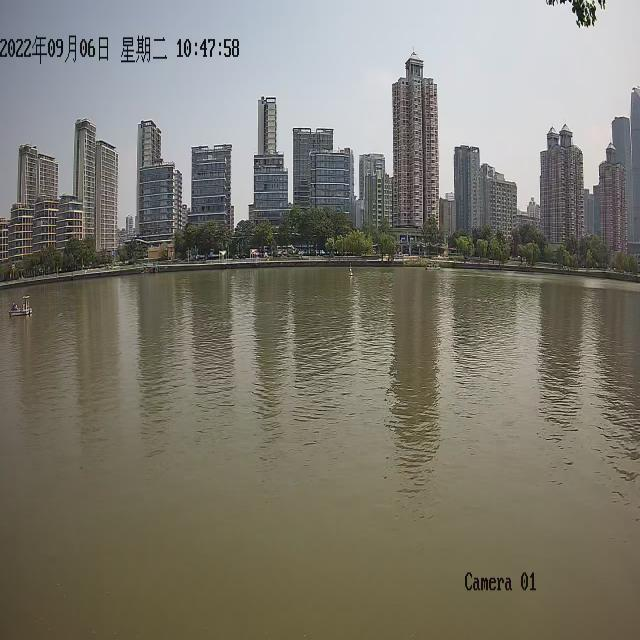ship: (8, 294, 32, 316), (425, 263, 441, 269)
